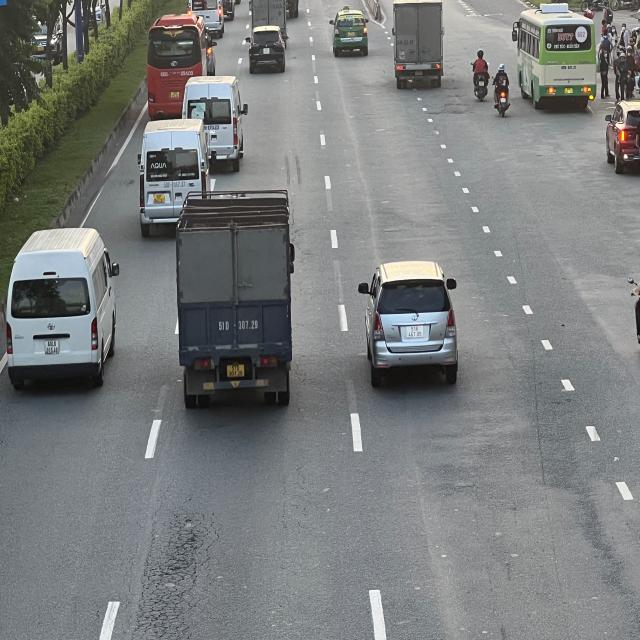car: (358, 262, 458, 390), (607, 100, 640, 170), (330, 10, 371, 59), (246, 26, 288, 72)
coach: (515, 8, 601, 108), (145, 12, 205, 117)
truck: (172, 191, 292, 411), (392, 0, 445, 85)
van: (7, 225, 122, 388), (140, 120, 212, 236), (185, 77, 249, 171)
